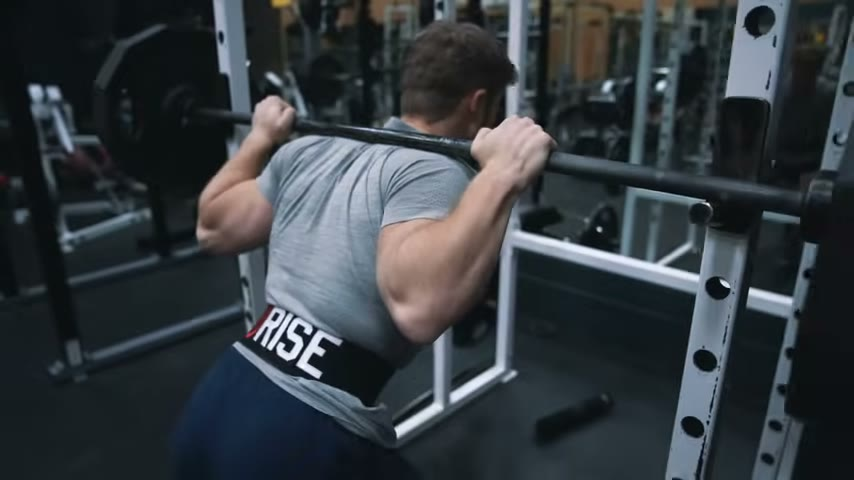barbell_plate_side: (108, 15, 271, 475)
